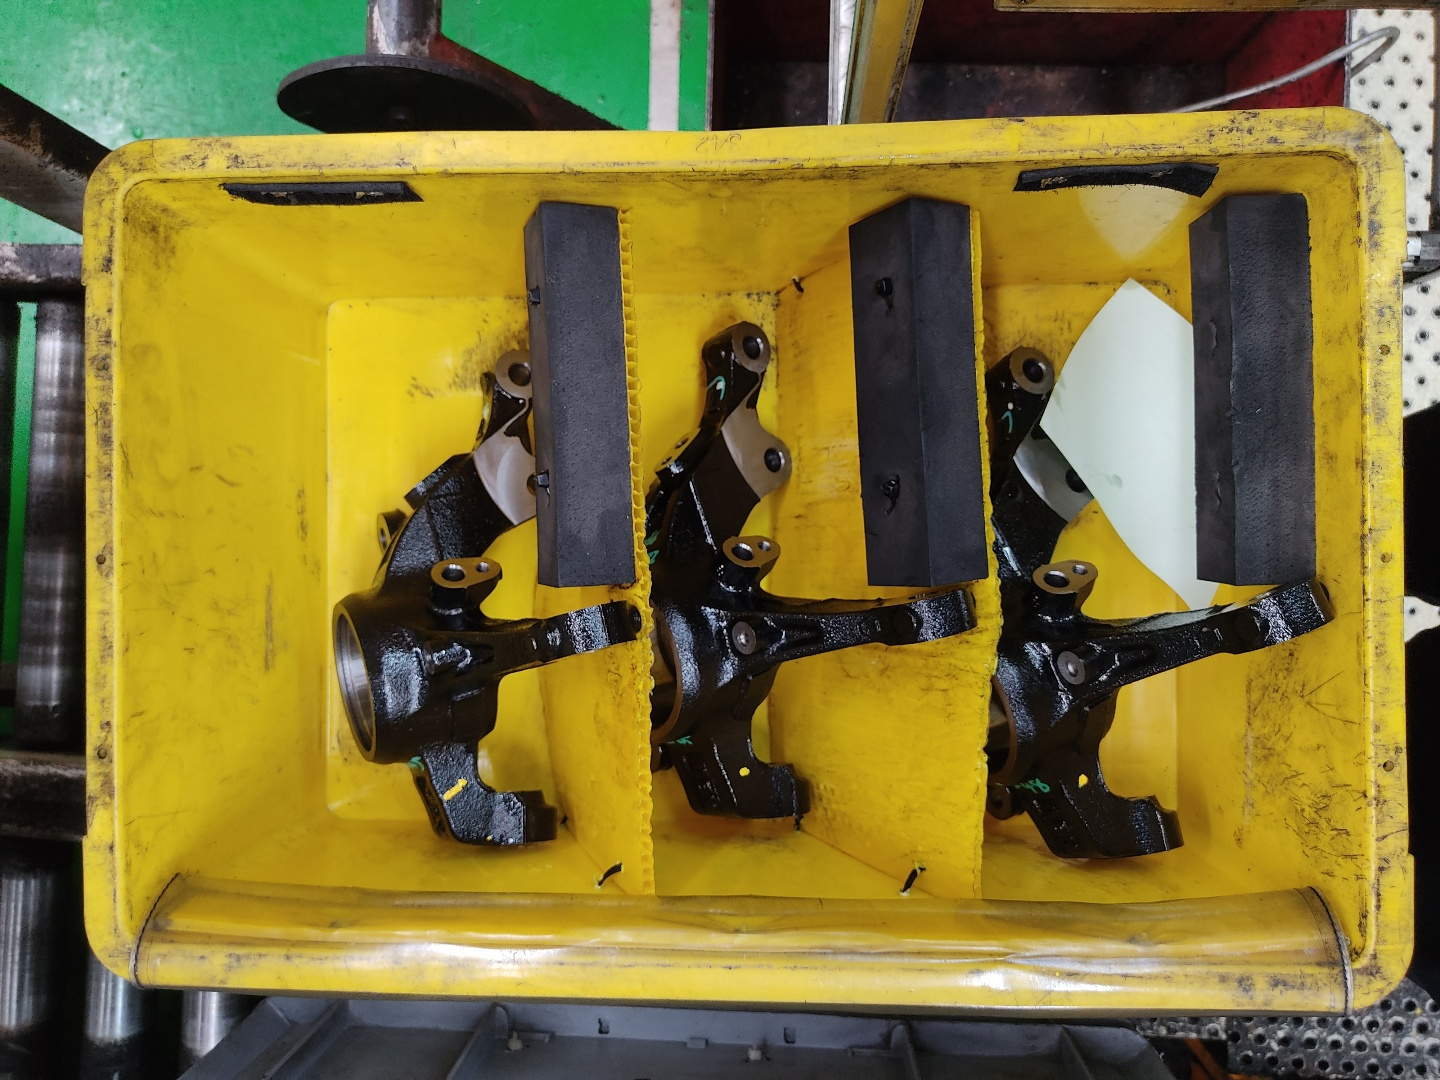abs-lh: (971, 324, 1347, 870), (635, 310, 985, 839), (327, 341, 646, 853)
